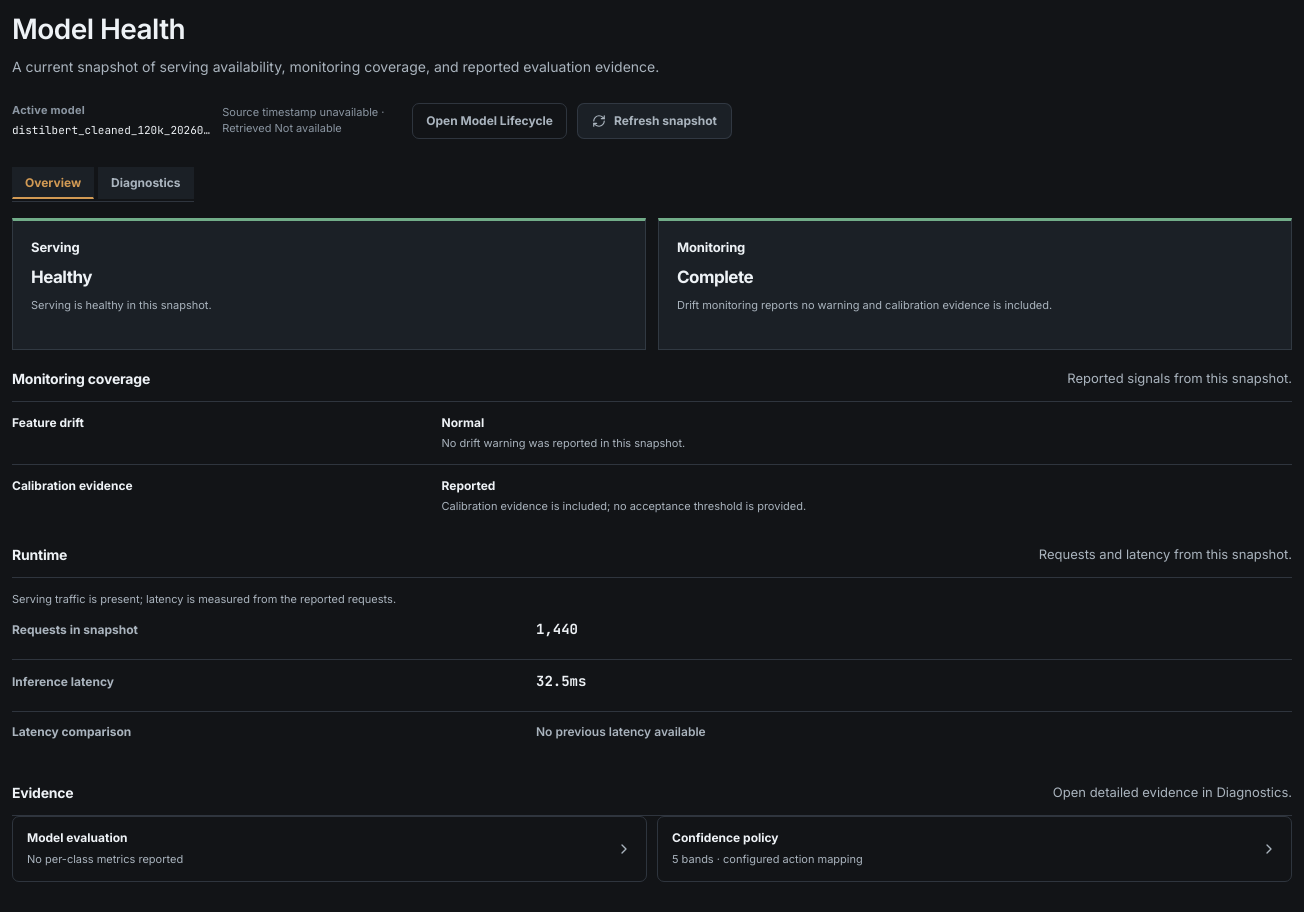
Scenario: MLHealthPage › renders the overview with snapshot-first ML health sections
Expected: the text "distilbert_cleaned_120k_20260324" is shown, left=12, top=122, right=212, bottom=139
Expected: the tab "Overview" is shown, left=12, top=167, right=94, bottom=199
Click the button with aria-label "Open Confidence policy diagnostics".
click(725, 838)  # box left=657, top=816, right=1292, bottom=882
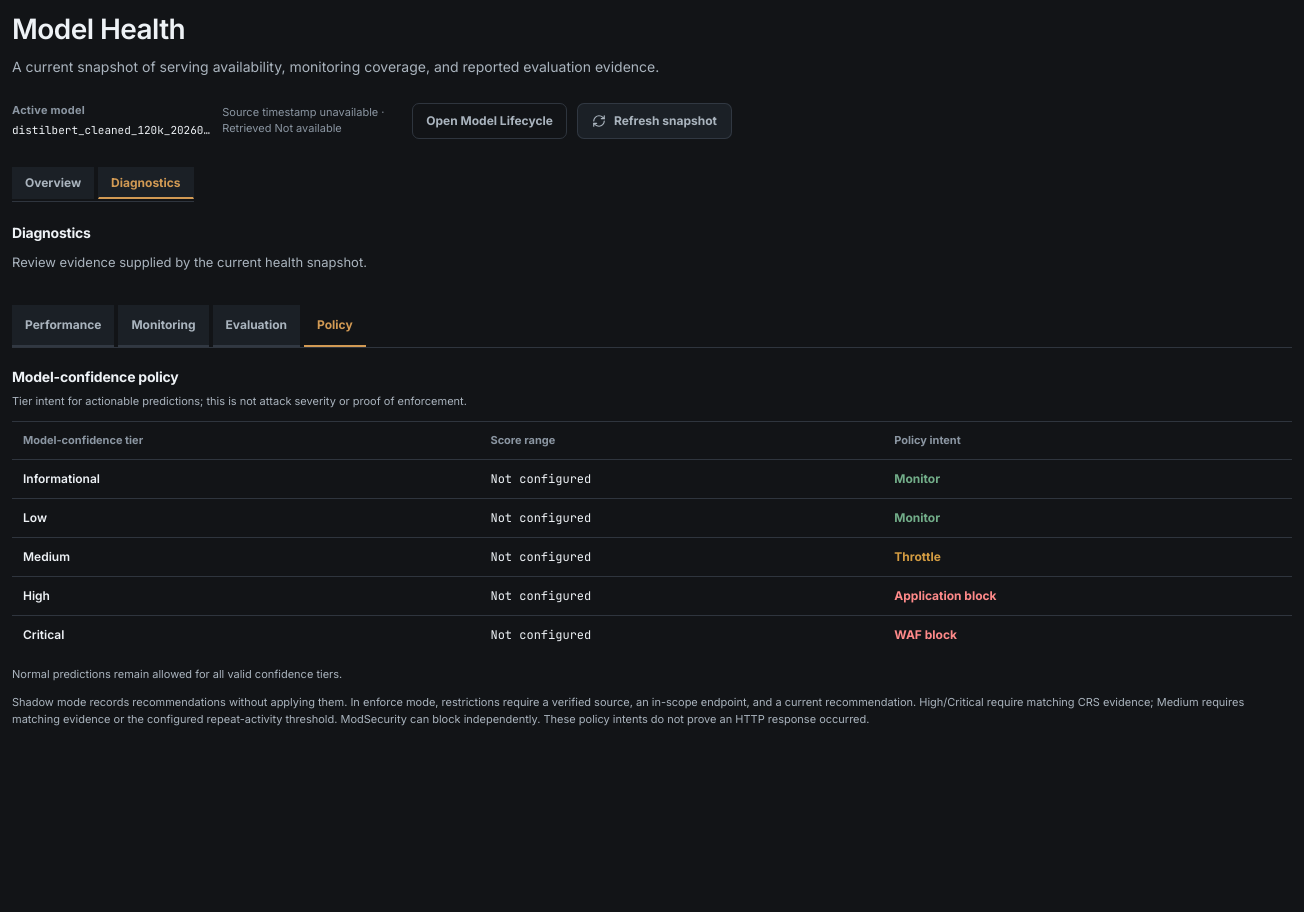
Now the table named "Model-confidence policy" is shown, box left=12, top=422, right=1292, bottom=654
Now the text "Normal predictions remain allowed for all valid confidence tiers." is shown, box left=12, top=667, right=342, bottom=681
